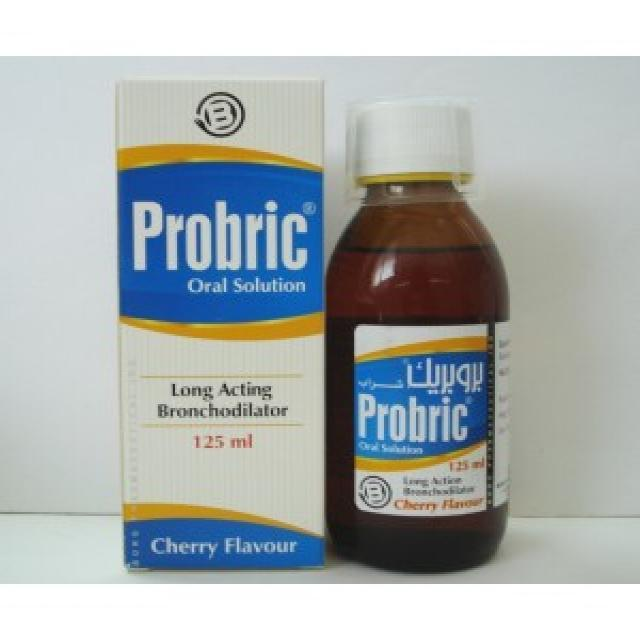drug-name: (128, 198, 310, 272)
